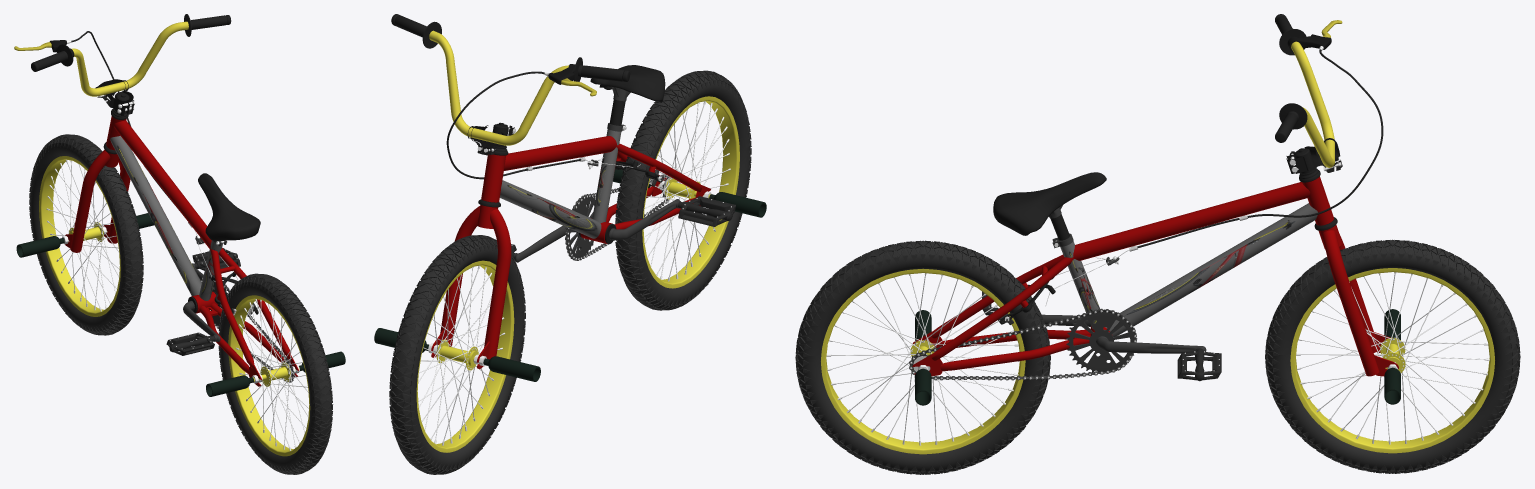
File: bmx2.fbx
3 renders of one model, left to right at view 1: azimuth 30°, elevation 25°; view 2: azimuth 150°, elevation 25°; view 3: azimuth 270°, elevation 25°, orthographic. The views are drawn at different scales.
Parts seen in each view (by area): view 1: Plane.001, Plane, Cylinder.001, Circle.003, Circle.001, Plane.003, Cylinder, Cylinder.007, Cylinder.005, Cylinder.034, Cylinder.035, Cylinder.008 (+17 smaller); view 2: Plane, Plane.001, Cylinder.005, Circle.001, Circle.003, Cylinder.034, Cylinder.001, Cylinder, Cylinder.035, Plane.003, Cylinder.056, Cylinder.057 (+22 smaller); view 3: Plane, Plane.001, Circle.003, Circle.001, Cylinder, Cylinder.001, Plane.003, Cylinder.005, Cylinder.007, Circle, Cylinder.008, Cylinder.034 (+17 smaller).
Part boxes in pixels (left/top/right/bottom): Plane.001: left=218, top=273, right=333, bottom=474; Plane: left=29, top=134, right=143, bottom=335; Cylinder.001: left=110, top=136, right=201, bottom=295; Circle.003: left=39, top=156, right=120, bottom=316; Circle.001: left=228, top=295, right=310, bottom=456; Plane.003: left=198, top=173, right=260, bottom=240; Cylinder: left=113, top=120, right=211, bottom=248; Cylinder.007: left=210, top=247, right=298, bottom=386; Cylinder.005: left=65, top=150, right=130, bottom=252; Cylinder.034: left=71, top=21, right=188, bottom=96; Cylinder.035: left=31, top=14, right=231, bottom=71; Cylinder.008: left=199, top=303, right=285, bottom=374; Plane: left=389, top=235, right=525, bottom=474; Plane.001: left=615, top=70, right=751, bottom=310; Cylinder.005: left=431, top=206, right=511, bottom=369; Circle.001: left=642, top=96, right=739, bottom=288; Circle.003: left=416, top=260, right=514, bottom=452; Cylinder.034: left=429, top=30, right=568, bottom=145; Cylinder.001: left=499, top=180, right=601, bottom=238; Cylinder: left=504, top=136, right=616, bottom=170; Cylinder.035: left=391, top=14, right=630, bottom=81; Plane.003: left=590, top=65, right=665, bottom=102; Cylinder.056: left=374, top=328, right=540, bottom=381; Cylinder.057: left=678, top=196, right=735, bottom=226; Plane: left=1265, top=239, right=1520, bottom=473; Plane.001: left=795, top=240, right=1050, bottom=474; Circle.003: left=1290, top=268, right=1494, bottom=453; Circle.001: left=821, top=268, right=1025, bottom=454; Cylinder: left=1073, top=182, right=1310, bottom=260; Cylinder.001: left=1105, top=203, right=1317, bottom=336; Plane.003: left=993, top=172, right=1106, bottom=235; Cylinder.005: left=1322, top=230, right=1398, bottom=376; Cylinder.007: left=912, top=254, right=1074, bottom=376; Circle: left=1066, top=309, right=1137, bottom=372; Cylinder.008: left=940, top=329, right=1090, bottom=371; Cylinder.034: left=1291, top=41, right=1334, bottom=167.
Bounding box in the file's own units: 84.86 × 135 × 217.
